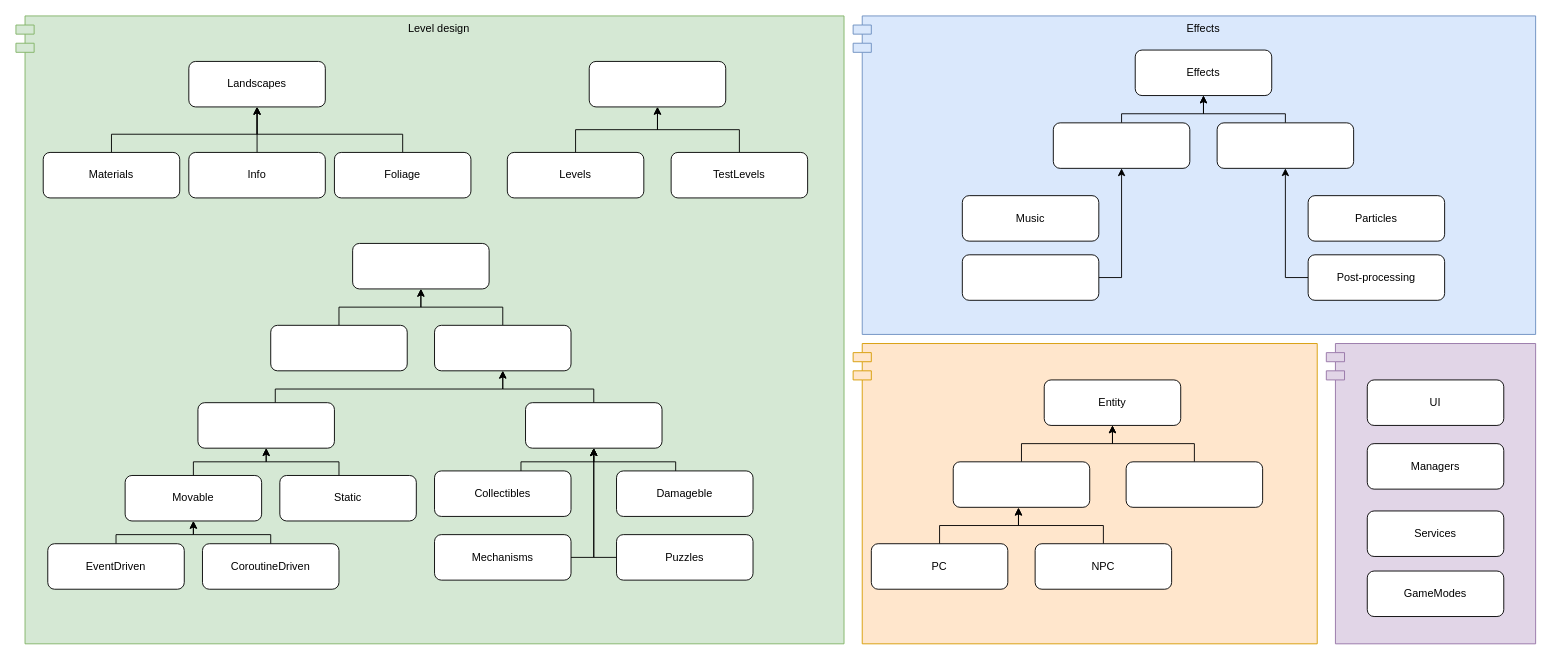
Image size: 1552x660. Some labels were removed from this diagram. The shapes that lost their labels are listed below. From the top down, each one's box as (x1, y1, x2, y2) in pixels, then its label:
(588, 61, 726, 107): Maps
(1052, 122, 1190, 168): Audio
(1216, 122, 1354, 168): Visual
(352, 243, 489, 289): LevelObjects
(961, 254, 1099, 300): Souds
(270, 324, 407, 371): Structures
(434, 324, 571, 371): Props
(197, 402, 334, 448): Blocks
(525, 402, 662, 448): Interactible
(952, 461, 1090, 507): Creatures
(852, 343, 1317, 644): Entities
(1125, 461, 1263, 507): Decorative
(1325, 343, 1536, 644): GameUtils
